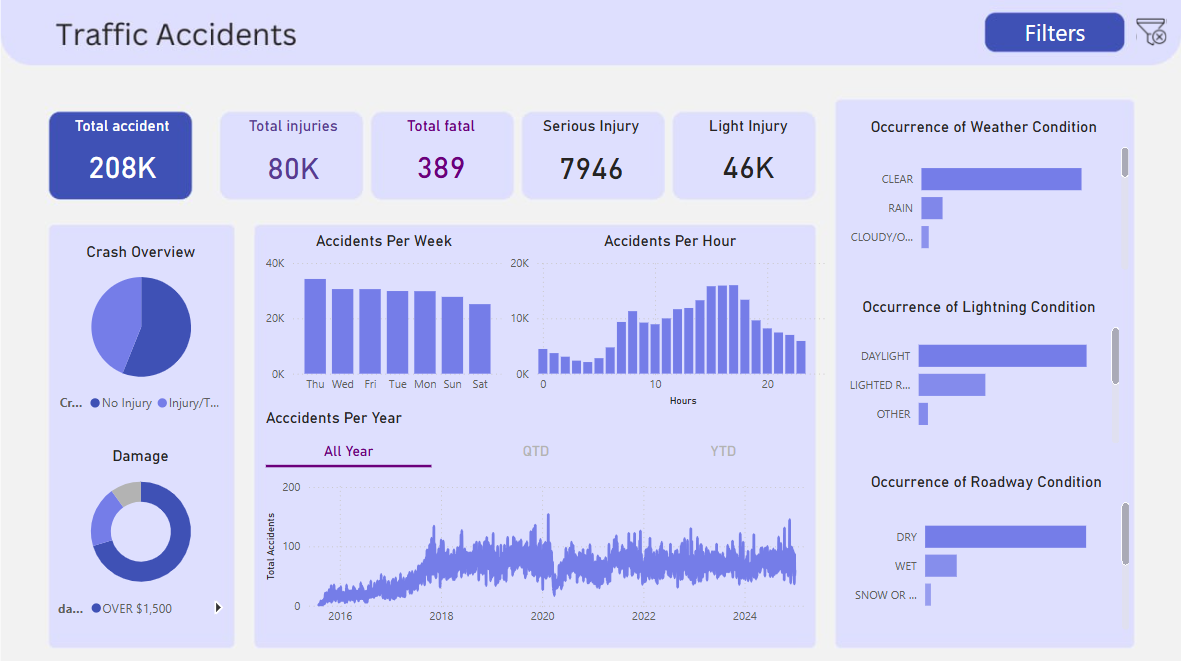

The page's visual inventory and layout, read from the dashboard file:
{"tool":"powerbi","page":{"name":"Overview Dashboard","canvas":[1920,1080],"ordinal":0},"visuals":[{"type":"pieChart","title":" Crash Overview","fields":{"Category":["traffic_accidents.Crash_Type_Visual"],"Y":["CountNonNull(traffic_accidents.Crash_Type_Visual)"]},"box":[376.3,442.4,189.8,193.2],"z":0},{"type":"donutChart","title":"Damage","fields":{"Category":["traffic_accidents.damage"],"Y":["CountNonNull(traffic_accidents.damage)"]},"box":[376.6,664.1,189.1,193.8],"z":1000},{"type":"card","title":"Total accident","fields":{"Values":["Measure.Total Accidents"]},"box":[381.2,304.7,139.1,85.9],"z":2000},{"type":"clusteredBarChart","title":"Occurrence of Weather Condition ","fields":{"Category":["traffic_accidents.weather_condition"],"Y":["CountNonNull(traffic_accidents.weather_condition)"]},"box":[1223.7,306.8,323.7,169.5],"z":3000},{"type":"clusteredBarChart","title":"Occurrence of Roadway Condition ","fields":{"Category":["FactTraffic_accidents.final_road_surface_condition"],"Y":["CountNonNull(FactTraffic_accidents.final_road_surface_condition)"]},"box":[1228.4,691,319.4,174.6],"z":4000},{"type":"clusteredBarChart","title":"Occurrence of Lightning Condition","fields":{"Category":["FactTraffic_accidents.final_lighting_condition"],"Y":["CountNonNull(FactTraffic_accidents.final_lighting_condition)"]},"box":[1223.7,502.3,313.6,162.7],"z":5000},{"type":"card","title":"Total injuries","fields":{"Values":["Measure.Total_Injuries"]},"box":[566,304.5,140,88],"z":6000},{"type":"card","title":"Total fatal","fields":{"Values":["Measure.Total_Injuries_Fatal"]},"box":[726.7,304.5,140,86.7],"z":7000},{"type":"card","title":"Serious Injury","fields":{"Values":["Measure.Total_Injuries_Incapacitating"]},"box":[890.7,304.5,138.7,88],"z":8000},{"type":"card","title":"Light Injury","fields":{"Values":["Measure.Total_Injuries_Non_Incapacitating"]},"box":[1050,304.5,160,85.7],"z":9000},{"type":"lineChart","title":"Total_accident by Year, Quarter, Month and Day","fields":{"Category":["FactTraffic_accidents.Correct_crash_day.Variation.Date Hierarchy.Year"],"Y":["Measure.Total Accidents"]},"box":[601.7,691.5,596.6,174.6],"z":10000},{"type":"clusteredColumnChart","title":"Accidents Per Week","fields":{"Category":["traffic_accidents.Crash_Day_Short"],"Y":["CountNonNull(traffic_accidents.Crash_Day_Short)"]},"box":[601.7,430.5,266.1,184.7],"z":11000},{"type":"clusteredColumnChart","title":"Accidents Per Hour","fields":{"Y":["CountNonNull(traffic_accidents.crash_hour)"],"Category":["traffic_accidents.crash_hour"]},"box":[867.2,429.9,356.7,194],"z":12000},{"type":"actionButton","box":[1388,192,148,40],"z":13000},{"type":"actionButton","box":[1546.9,193.8,57.8,40.6],"z":14000},{"type":"advancedSlicerVisual","title":"Acccidents Per Year","fields":{"Values":["Date Periods.Level"]},"box":[601.7,622,596.6,69.5],"z":14500}]}

Visuals, with their boxes in screenshot pixels (x1, y1, x2, y2), scaled from the page's 1920x1080 canvas onto the 1181x661 screenshot:
" Crash Overview" pieChart: x1=231, y1=271, x2=348, y2=389
"Damage" donutChart: x1=232, y1=406, x2=348, y2=525
"Total accident" card: x1=234, y1=186, x2=320, y2=239
"Occurrence of Weather Condition " clusteredBarChart: x1=753, y1=188, x2=952, y2=292
"Occurrence of Roadway Condition " clusteredBarChart: x1=756, y1=423, x2=952, y2=530
"Occurrence of Lightning Condition" clusteredBarChart: x1=753, y1=307, x2=946, y2=407
"Total injuries" card: x1=348, y1=186, x2=434, y2=240
"Total fatal" card: x1=447, y1=186, x2=533, y2=239
"Serious Injury" card: x1=548, y1=186, x2=633, y2=240
"Light Injury" card: x1=646, y1=186, x2=744, y2=239
"Total_accident by Year, Quarter, Month and Day" lineChart: x1=370, y1=423, x2=737, y2=530
"Accidents Per Week" clusteredColumnChart: x1=370, y1=263, x2=534, y2=377
"Accidents Per Hour" clusteredColumnChart: x1=533, y1=263, x2=753, y2=382
actionButton: x1=854, y1=118, x2=945, y2=142
actionButton: x1=952, y1=119, x2=987, y2=143
"Acccidents Per Year" advancedSlicerVisual: x1=370, y1=381, x2=737, y2=423
